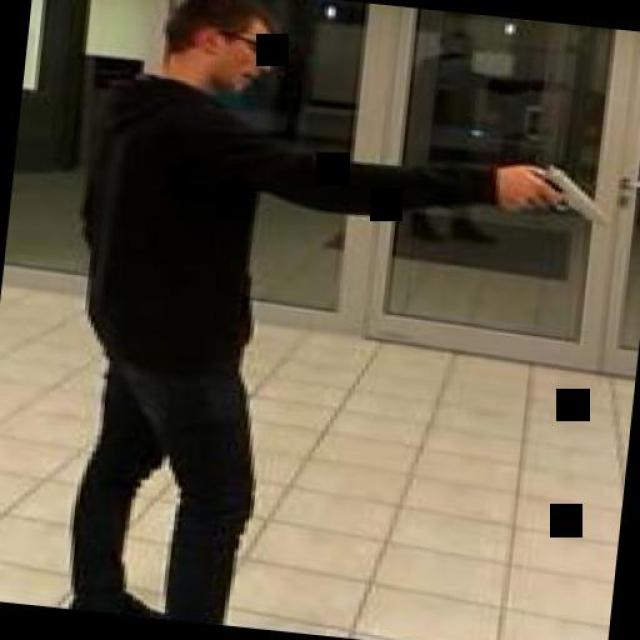gun: (509, 155, 610, 224)
